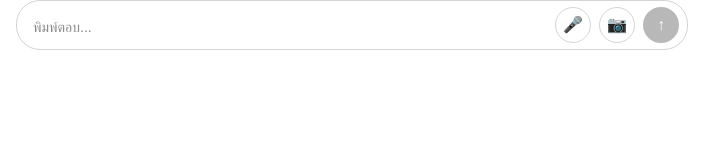
Test: Composer voice button › TM07 a denied microphone shows an alert, does not record, and the button can be tried again
Press the mouse on the button named "กดค้างเพื่อพูด": (573, 25) [555,7,591,43]
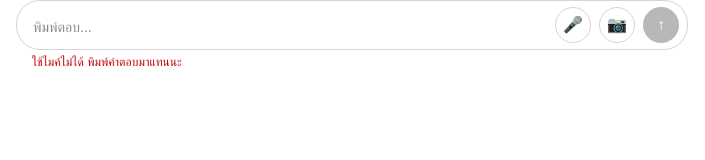
Expected: the message reads "ใช้ไมค์ไม่ได้ พิมพ์คำตอบมาแทนนะ", [32,55,182,69]
